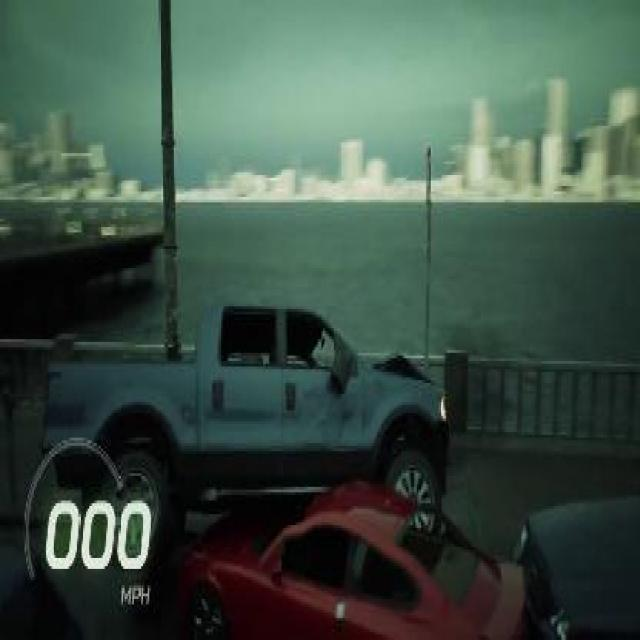accident: (32, 287, 538, 640)
